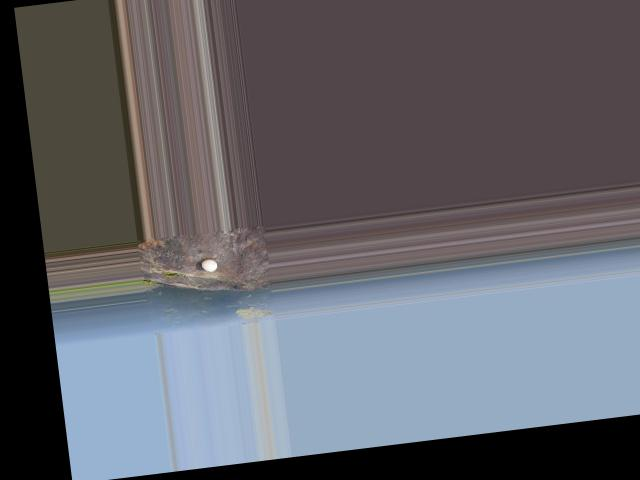egg: (201, 258, 218, 272)
